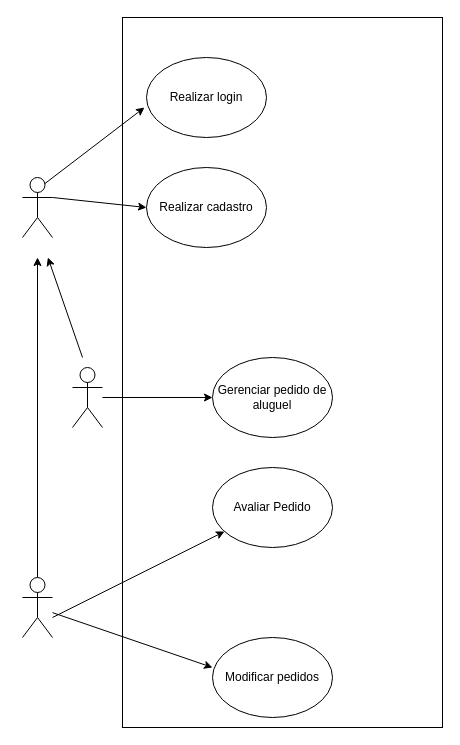
The diagram is 460 pixels wide and 745 high, and some of its shapes have lost their labels. Each missing label, with the centre of its shape:
"Agente" goes at point (37, 607).
"Cliente" goes at point (87, 397).
"Usuário" goes at point (37, 207).
